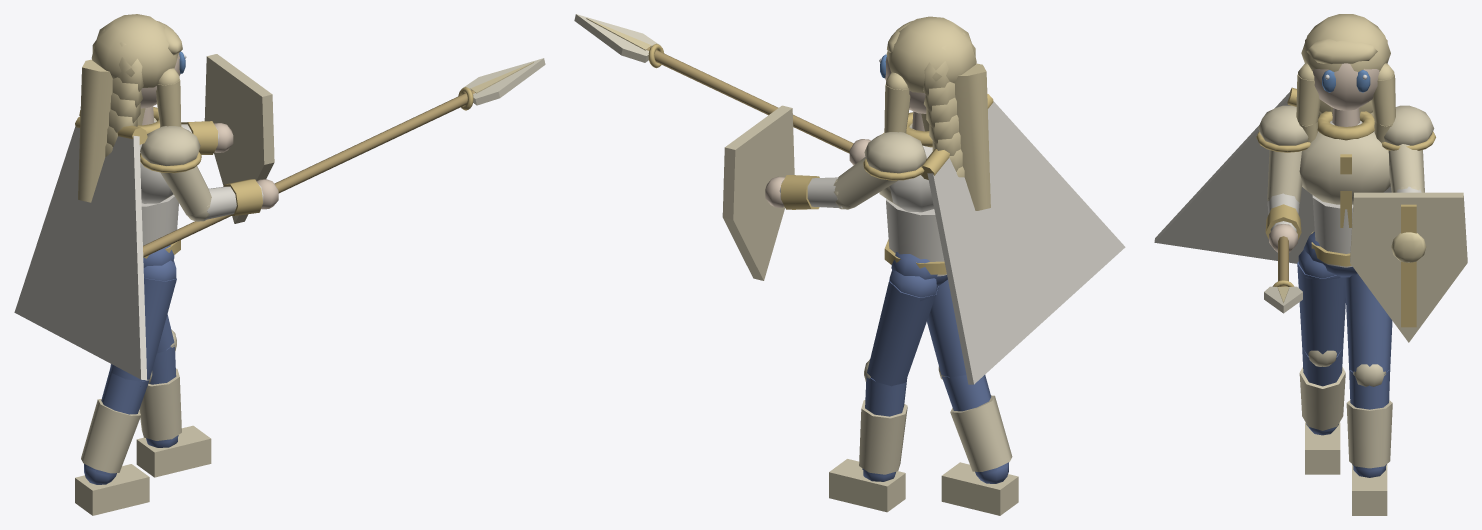
File: ally_3_dawn_guard.glb
3 views of the same model, side by side, from view 1: azimuth 30°, elevation 25°; view 2: azimuth 150°, elevation 25°; view 3: azimuth 270°, elevation 25° (orthographic). The views are drawn at different scales.
Parts seen in each view (by area): view 1: Cape, Head, LegR, Offhand, LegL, Torso, Weapon, ArmR, ArmL; view 2: Cape, Head, LegL, LegR, Torso, Offhand, Weapon, ArmL; view 3: Torso, Offhand, Cape, LegL, Head, LegR, ArmR, ArmL, Weapon.
Part boxes in pixels (<box>): Cape: <box>14,116,147,380</box>; Head: <box>78,14,186,202</box>; LegR: <box>75,260,176,515</box>; Offhand: <box>204,54,274,223</box>; LegL: <box>136,314,211,477</box>; Torso: <box>79,106,201,267</box>; Weapon: <box>143,58,545,257</box>; ArmR: <box>160,166,278,221</box>; ArmL: <box>181,121,233,154</box>; Cape: <box>921,94,1125,384</box>; Head: <box>879,16,990,210</box>; LegL: <box>829,270,938,512</box>; LegR: <box>927,279,1018,515</box>; Torso: <box>863,111,947,285</box>; Offhand: <box>722,105,794,280</box>; Weapon: <box>574,14,853,153</box>; ArmL: <box>765,157,898,209</box>; Torso: <box>1256,105,1435,277</box>; Offhand: <box>1350,192,1467,342</box>; Cape: <box>1154,87,1391,263</box>; LegL: <box>1345,274,1392,515</box>; Head: <box>1296,14,1395,142</box>; LegR: <box>1297,250,1345,474</box>; ArmR: <box>1265,150,1302,252</box>; ArmL: <box>1388,144,1424,192</box>; Weapon: <box>1264,236,1302,313</box>.
Bounding box in the file's own units: 2.73 × 2.59 × 1.6.
